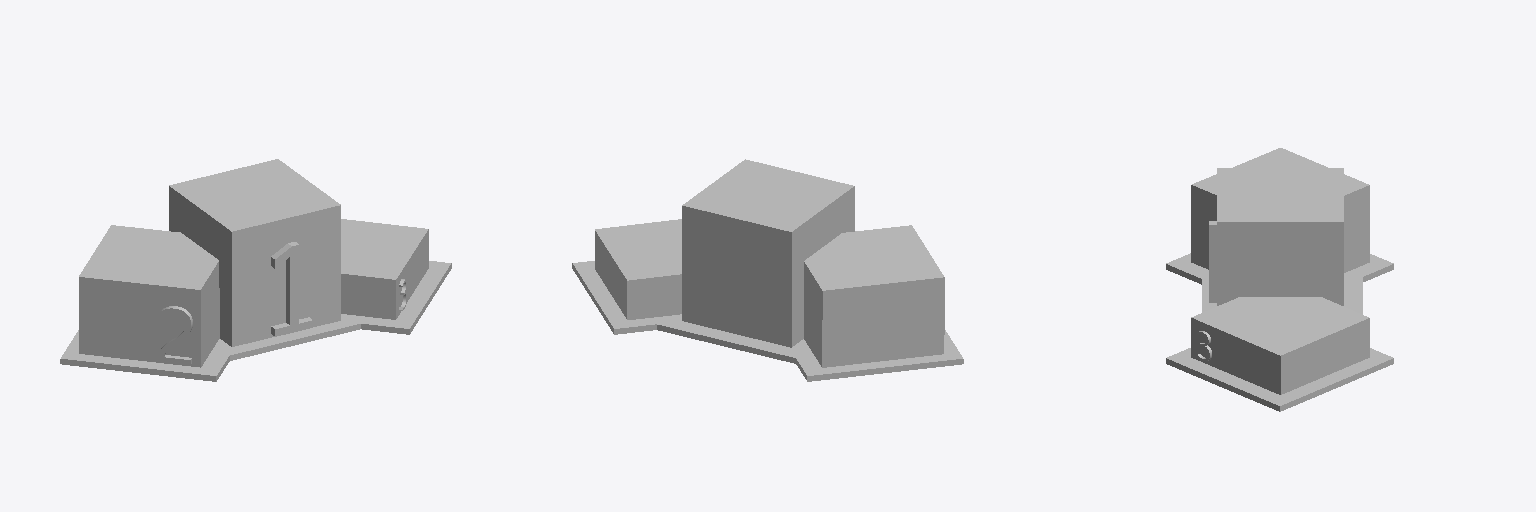
Rendered from winner_podium.obj.
3 renders of one model, left to right at view 1: azimuth 30°, elevation 25°; view 2: azimuth 150°, elevation 25°; view 3: azimuth 270°, elevation 25°, orthographic.
Visible parts, largest first — view 1: podium_rotated.001, base, number_1, number_2.001; view 2: podium_rotated.001, base; view 3: podium_rotated.001, base, number_1.
Part boxes in pixels (x1,y1,x2,y2): podium_rotated.001: (79, 159, 428, 367); base: (60, 261, 451, 381); number_1: (271, 242, 312, 336); number_2.001: (158, 306, 192, 364); podium_rotated.001: (595, 159, 944, 367); base: (572, 261, 963, 381); podium_rotated.001: (1191, 148, 1369, 394); base: (1166, 253, 1393, 411); number_1: (1209, 221, 1216, 309).
Bounding box in the file's own units: 1032 × 306 × 522.